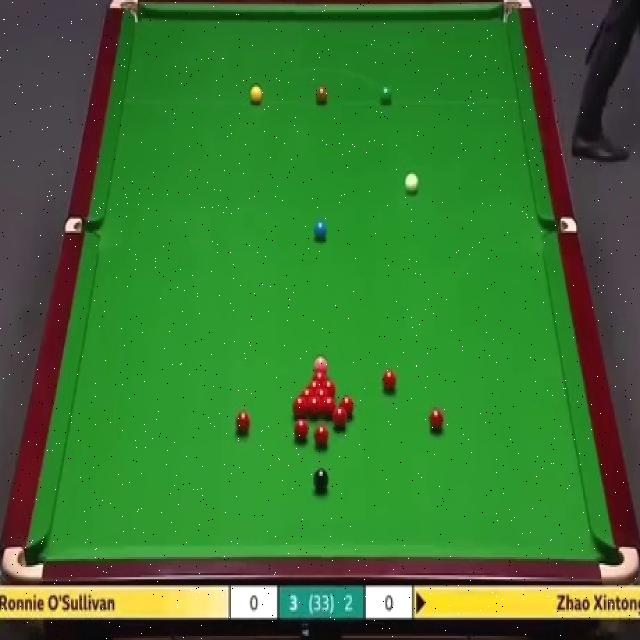black-ball: (314, 468, 329, 494)
blue-ball: (314, 221, 327, 240)
brown-ball: (315, 86, 328, 105)
green-ball: (380, 85, 392, 105)
pink-ball: (313, 354, 327, 367)
red-ball: (428, 407, 446, 435), (234, 410, 251, 436), (294, 419, 310, 442), (291, 395, 307, 418), (339, 395, 354, 419), (382, 370, 397, 394), (314, 425, 329, 448), (322, 396, 337, 419), (332, 408, 347, 430), (307, 395, 321, 417), (323, 378, 336, 395), (310, 368, 328, 378), (306, 379, 322, 388), (300, 388, 314, 397), (314, 388, 329, 396)
white-ball: (404, 170, 420, 196)
yellow-ball: (249, 86, 262, 104)
